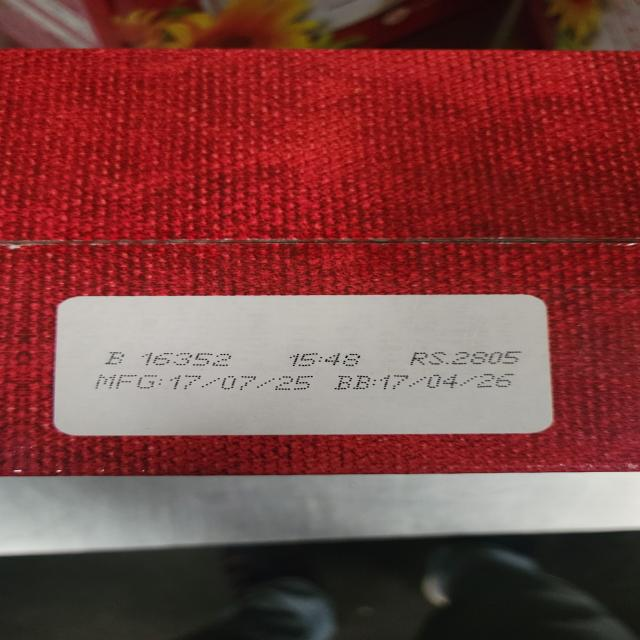BB: (334, 373, 517, 391)
Batch: (102, 352, 240, 366)
MFG: (97, 374, 311, 392)
RS: (409, 351, 527, 365)
TimeStamp: (289, 352, 364, 367)
